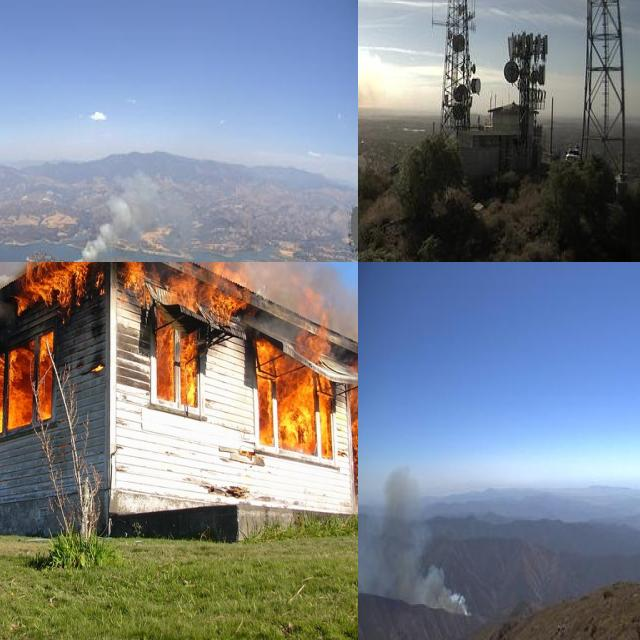fire: (257, 291, 358, 499), (133, 262, 249, 423), (0, 326, 54, 431), (11, 262, 103, 310)
smoke: (0, 262, 358, 353), (358, 457, 467, 614), (63, 166, 196, 262)
